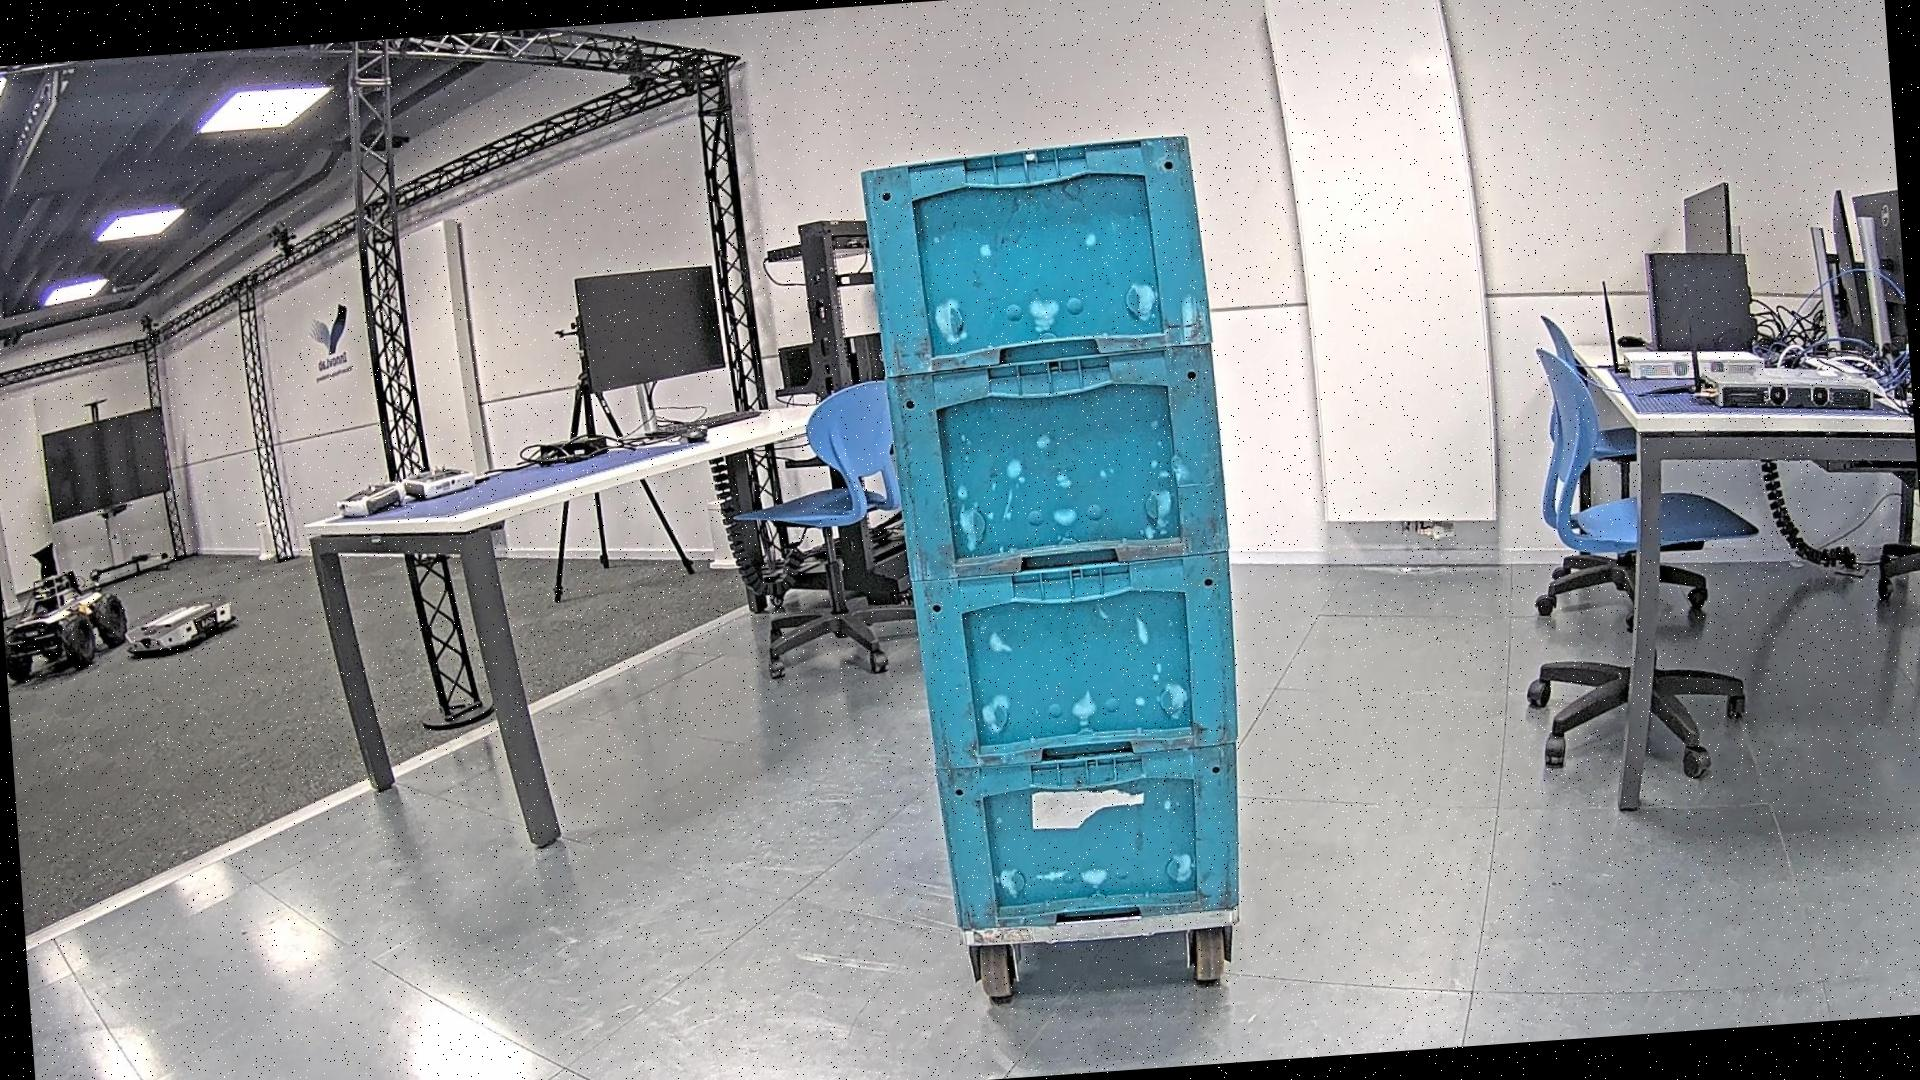BoxB4: (855, 124, 1262, 942)
